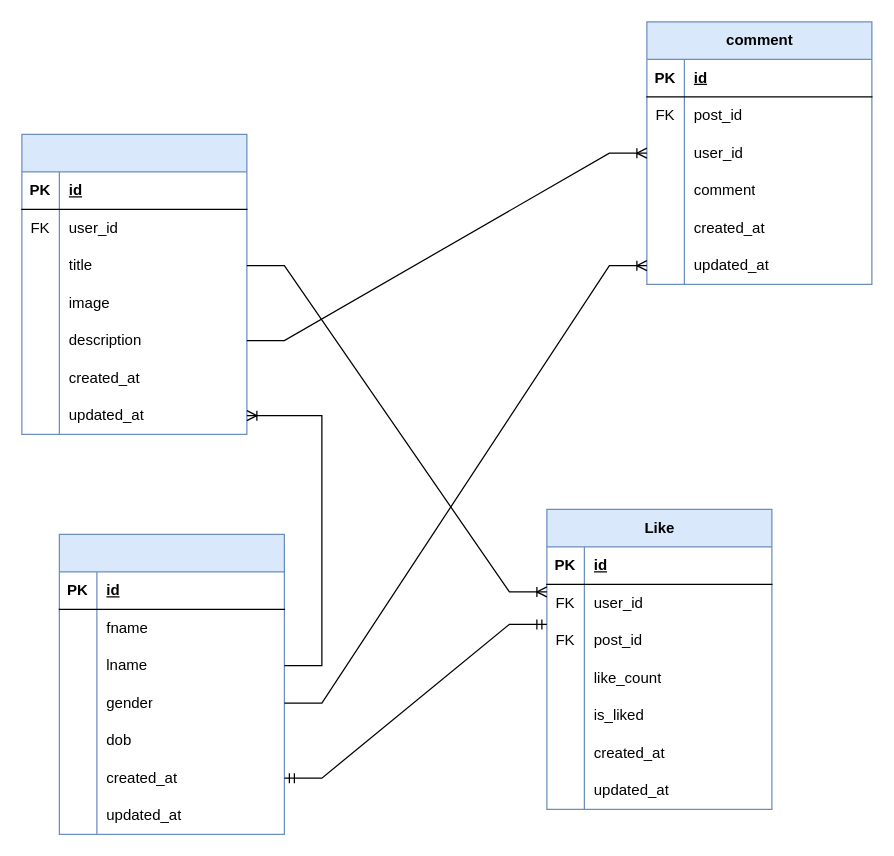
Image size: 894x856. Some labels were removed from this diagram. The shapes that lost their labels are listed below. From the top down, each one's box as (x1, y1, x2, y2) in pixels, then its label:
(21, 133, 247, 434): post
(58, 533, 284, 834): user
